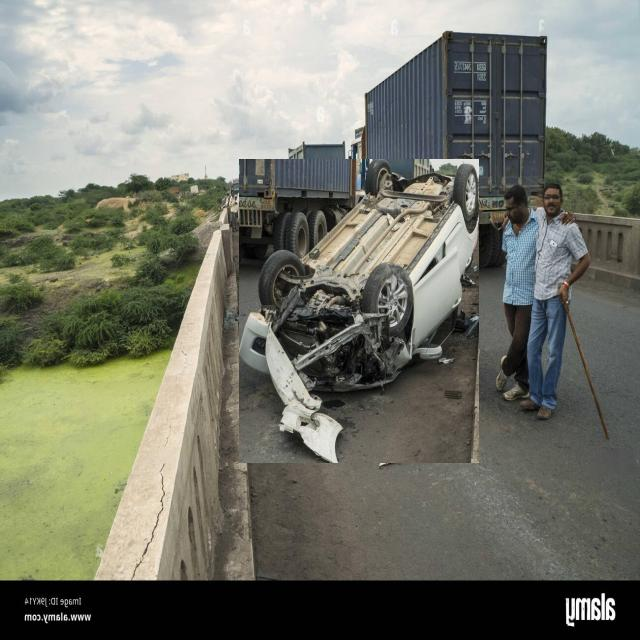accident: (239, 159, 479, 463)
truck: (349, 31, 548, 267)
